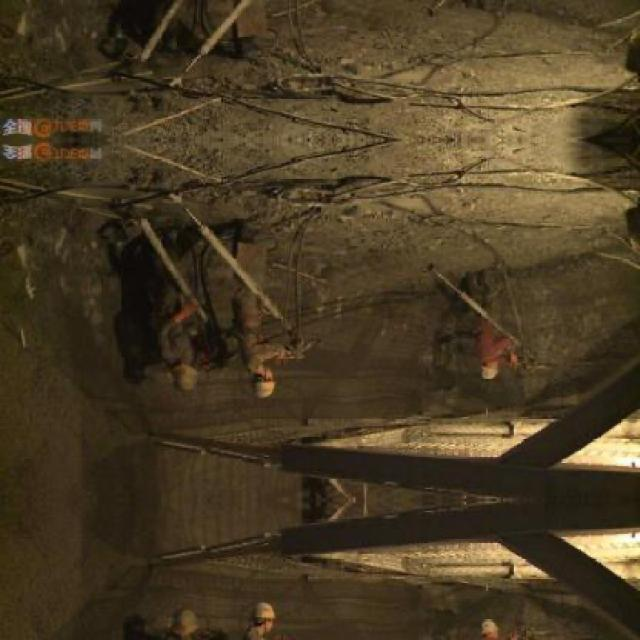con casco: (151, 357, 206, 409), (239, 364, 278, 408), (464, 361, 505, 393)
